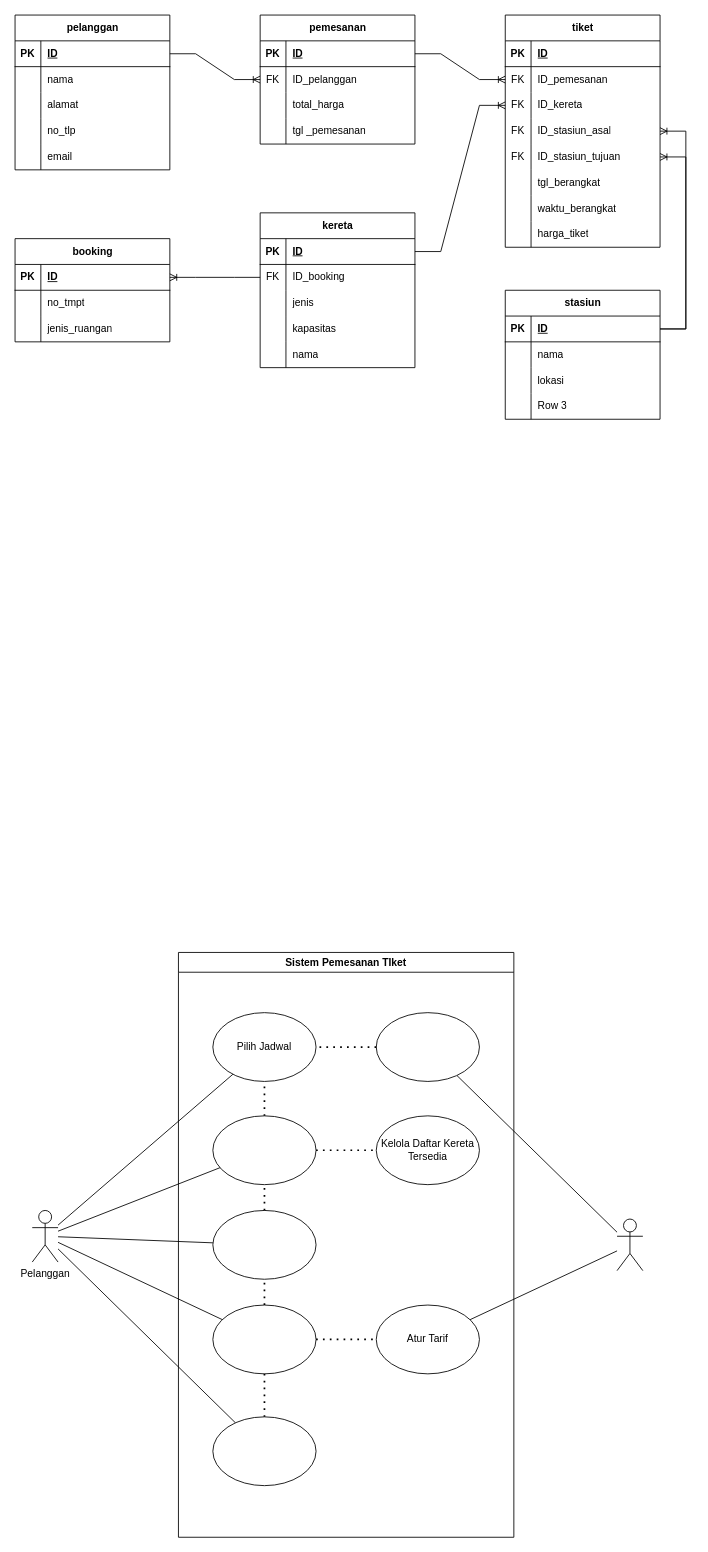
This 708x1552 diagram has some shape labels left out. The shapes that lost their labels are listed below. From the top down, each one's centre as x and y in pixels, then its label:
At pixel 427 1046: "Kelola Jadwal".
At pixel 264 1150: "Pilih Kereta & Jadwal".
At pixel 264 1244: "Pilih Kursi".
At pixel 629 1244: "Admin".
At pixel 264 1339: "Proses Pembayaran".
At pixel 264 1451: "Cetak TIket".
